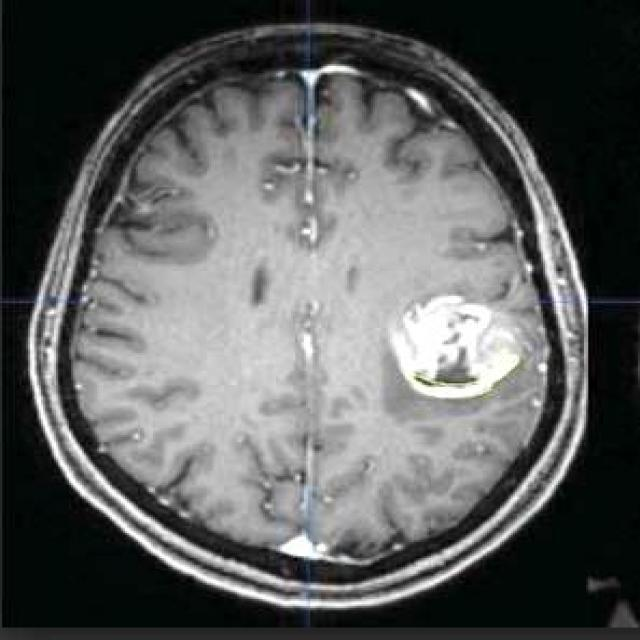Tumor: (382, 288, 530, 409)
